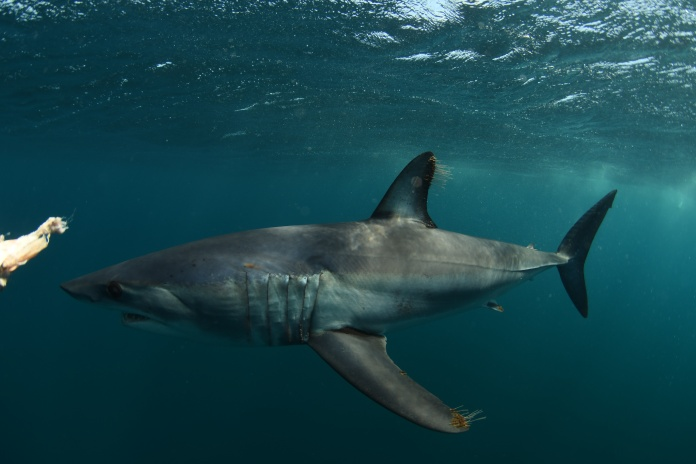Mako: (56, 144, 623, 438)
